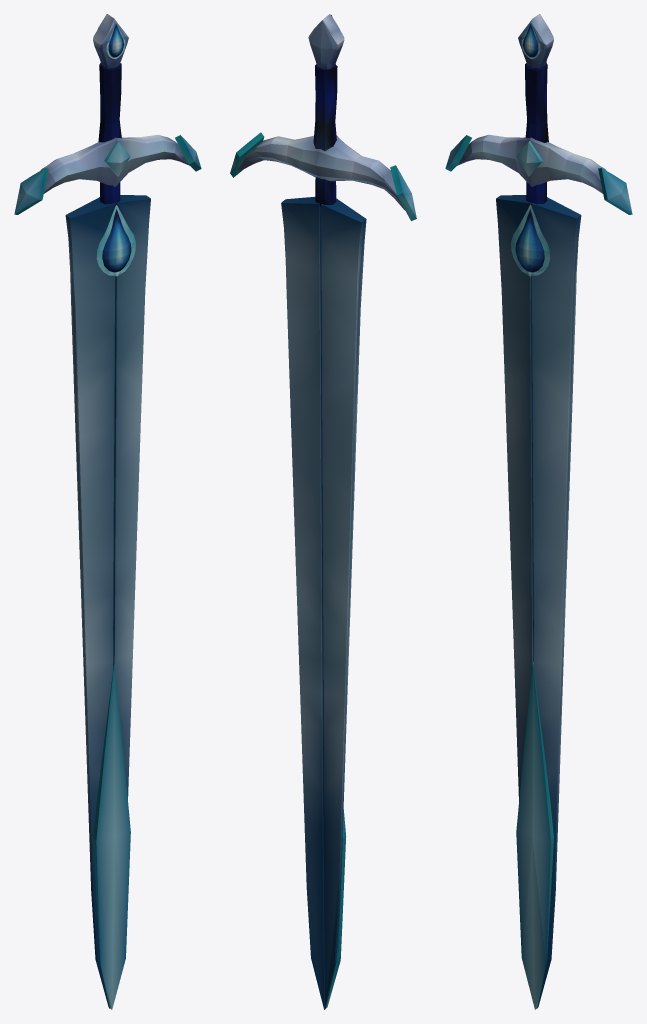
Rendered from Sword_of_Water.fbx.
The picture shows the model from 3 angles, left to right: view 1: azimuth 30°, elevation 25°; view 2: azimuth 150°, elevation 25°; view 3: azimuth 330°, elevation 25°; orthographic projection.
Visible parts, largest first — view 1: sword_of_water_merged_all; view 2: sword_of_water_merged_all; view 3: sword_of_water_merged_all.
Boxes of the visible parts, x1,y1,x2,y2 form: sword_of_water_merged_all: (14, 14, 201, 1009); sword_of_water_merged_all: (230, 14, 416, 1009); sword_of_water_merged_all: (445, 14, 632, 1009).
Size of the model in its own units: 26.09 by 132 by 4.72.
